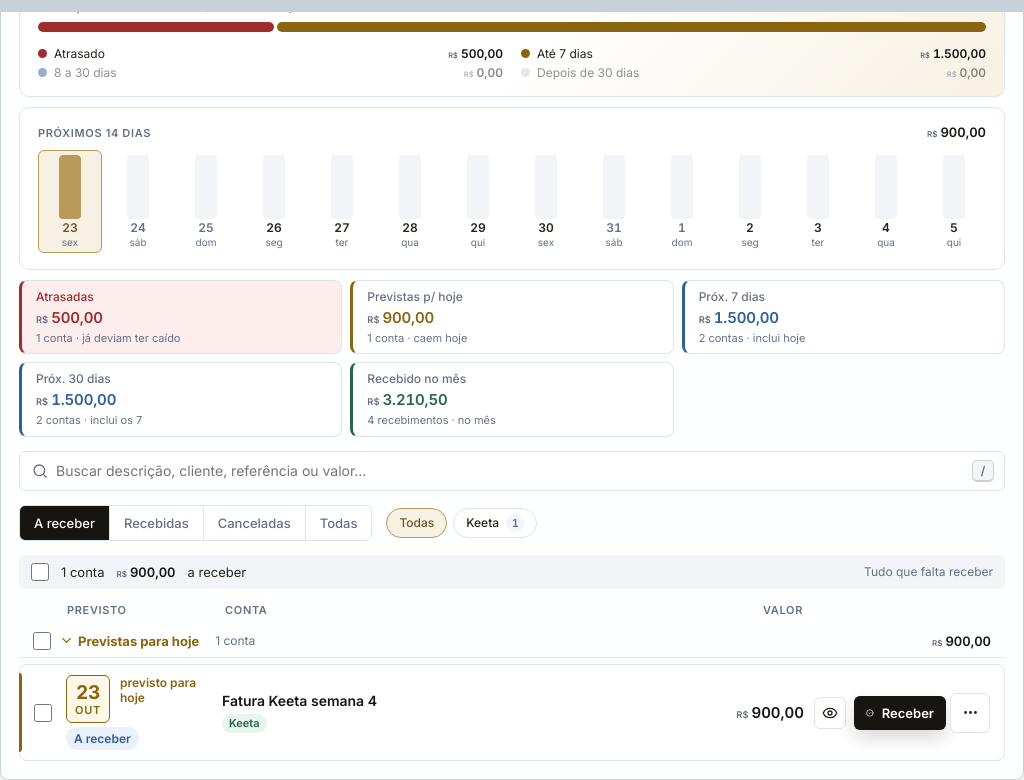
Contas a Receber — panorama e lista › a vista Recebidas busca o histórico do mês pela data do recebimento
The width and height of the screenshot is (1024, 780).
(page scrolled)
Expected: the text "Fatura Keeta semana 4" is shown, [222,692,377,709]
Click the button "Recebidas" at (156, 523), box [109,506,203,540]
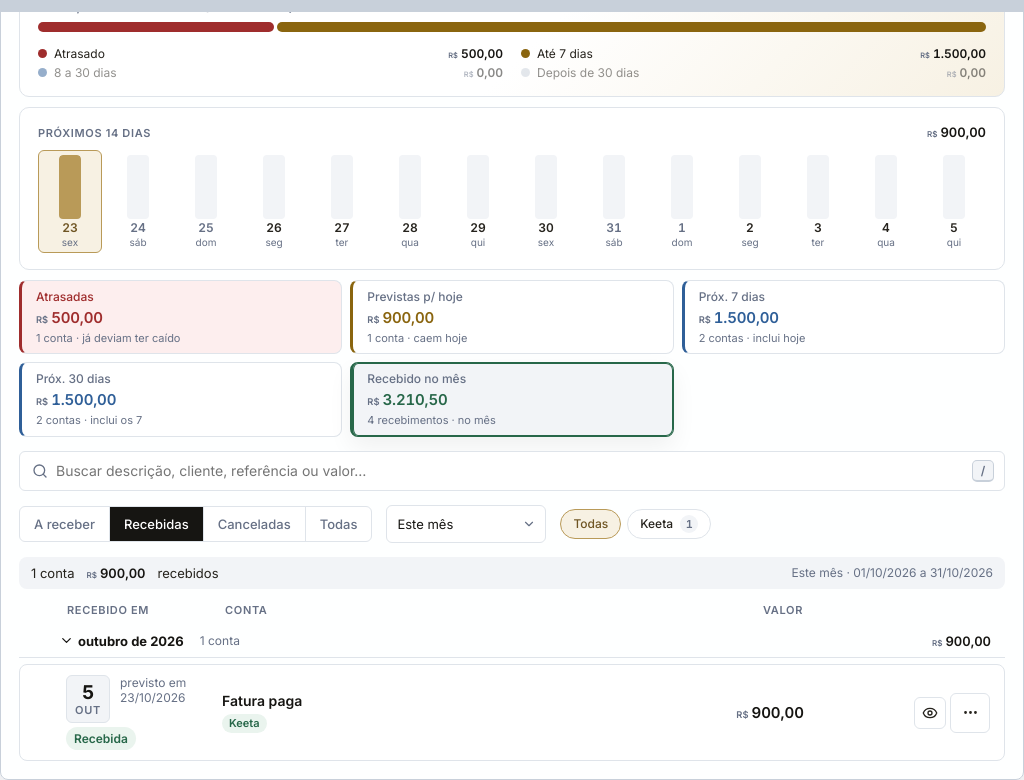
Now the text "Fatura paga" is shown, box [222,692,302,709]
Now the heading "outubro de 2026" is shown, box [61,631,190,651]
